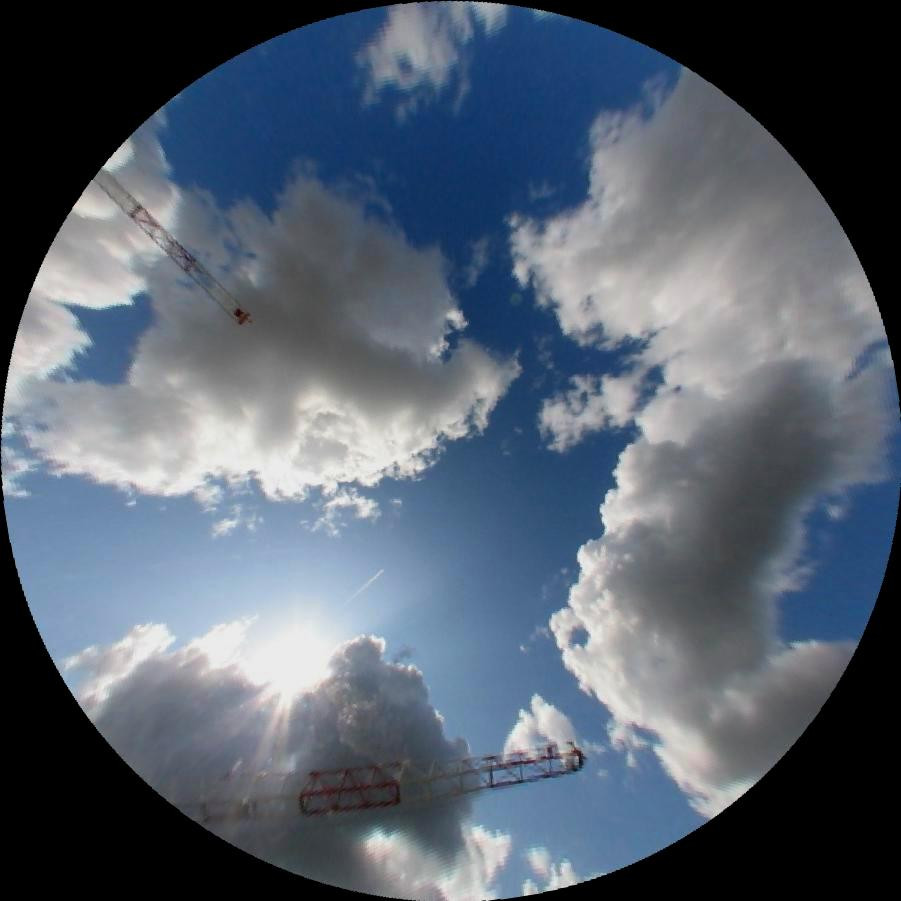contrail young: (337, 567, 385, 609)
sun: (239, 616, 339, 708)
